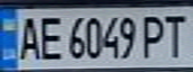0: (84, 13, 103, 60)
4: (103, 12, 121, 60)
6: (63, 12, 87, 61)
9: (118, 12, 142, 60)
A: (12, 12, 42, 62)
E: (36, 12, 63, 61)
P: (139, 11, 169, 60)
T: (160, 11, 193, 60)
